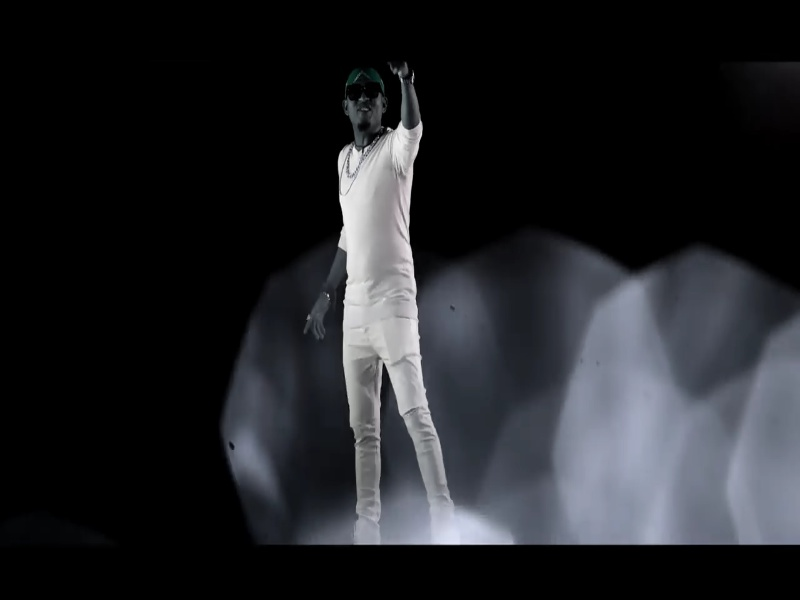TsisyArotava: (333, 55, 399, 136)
